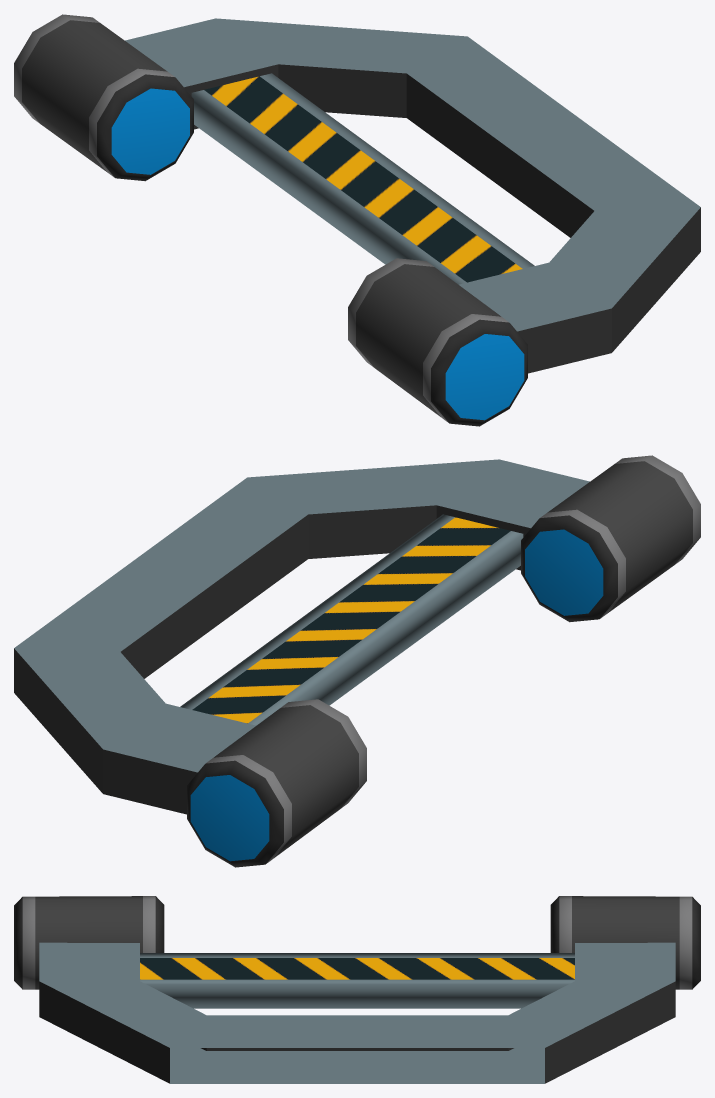
File: Cargo_drone_004_grab_003.fbx
The picture shows the model from 3 angles, top to bottom: view 1: azimuth 30°, elevation 25°; view 2: azimuth 150°, elevation 25°; view 3: azimuth 270°, elevation 25°; orthographic projection. The views are drawn at different scales.
Parts seen in each view (by area): view 1: Cargo_drone_004_grab_003; view 2: Cargo_drone_004_grab_003; view 3: Cargo_drone_004_grab_003.
Boxes of the visible parts, x1,y1,x2,y2 form: Cargo_drone_004_grab_003: (14, 14, 700, 426); Cargo_drone_004_grab_003: (14, 455, 700, 867); Cargo_drone_004_grab_003: (14, 896, 700, 1083).
Size of the model in its own units: 68.39 by 140 by 19.44.
